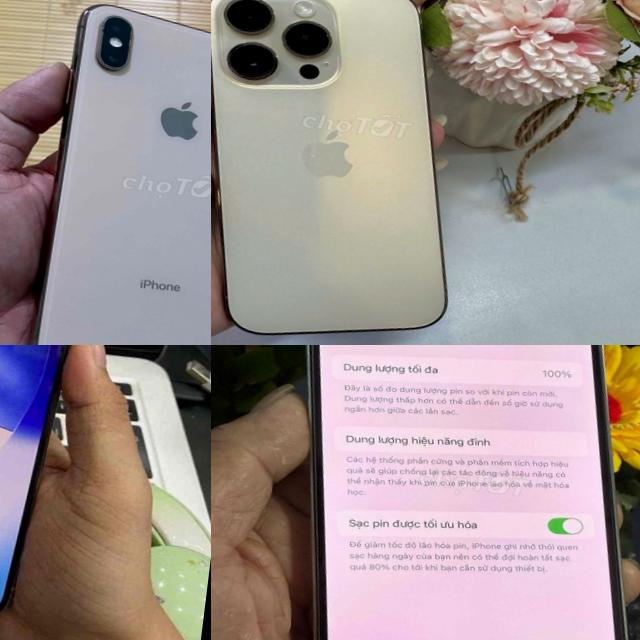gen_14: (240, 345, 640, 640), (211, 0, 495, 345)
gen_15: (0, 345, 85, 635)
gen_x_xs: (32, 0, 211, 345)
